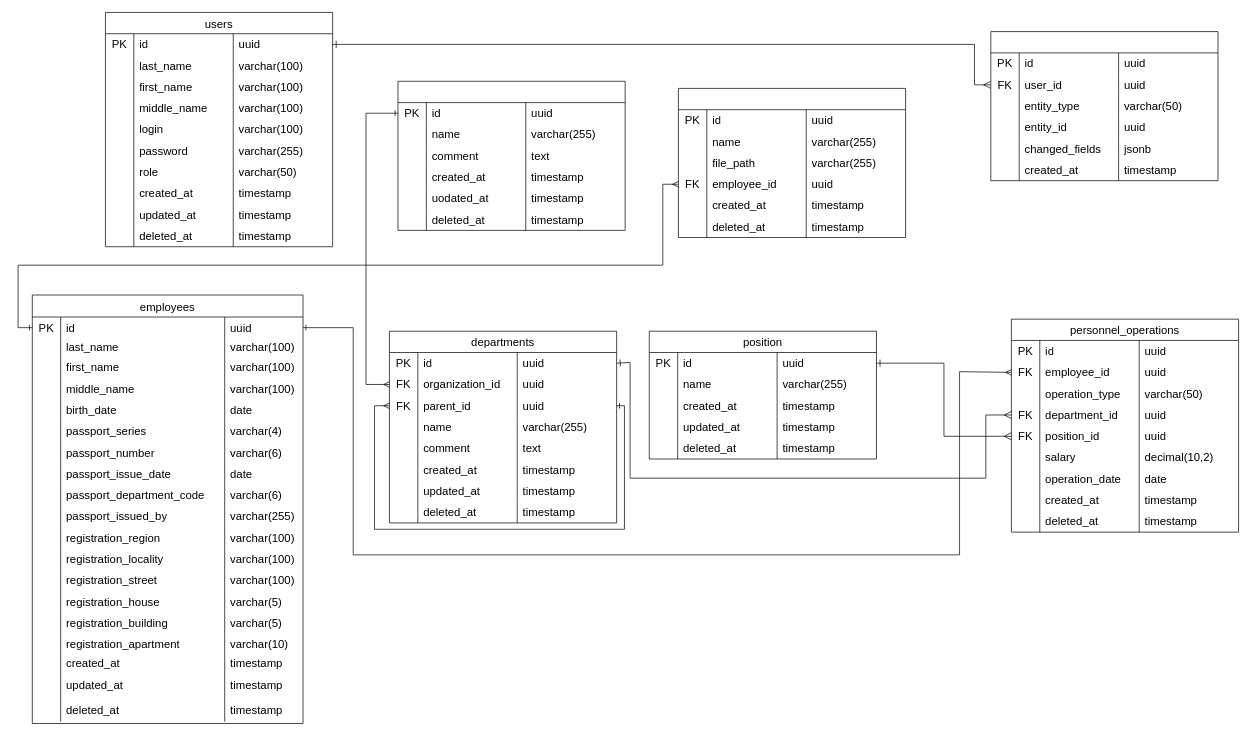
The diagram is 1251 pixels wide and 736 high, and some of its shapes have lost their labels. The shapes that lost their labels are listed below. From the top down, each one's box as (x1, y1, x2, y2) in pixels, then its label:
(990, 31, 1218, 181): operation_history
(397, 81, 625, 230): organizations
(678, 88, 906, 237): files
